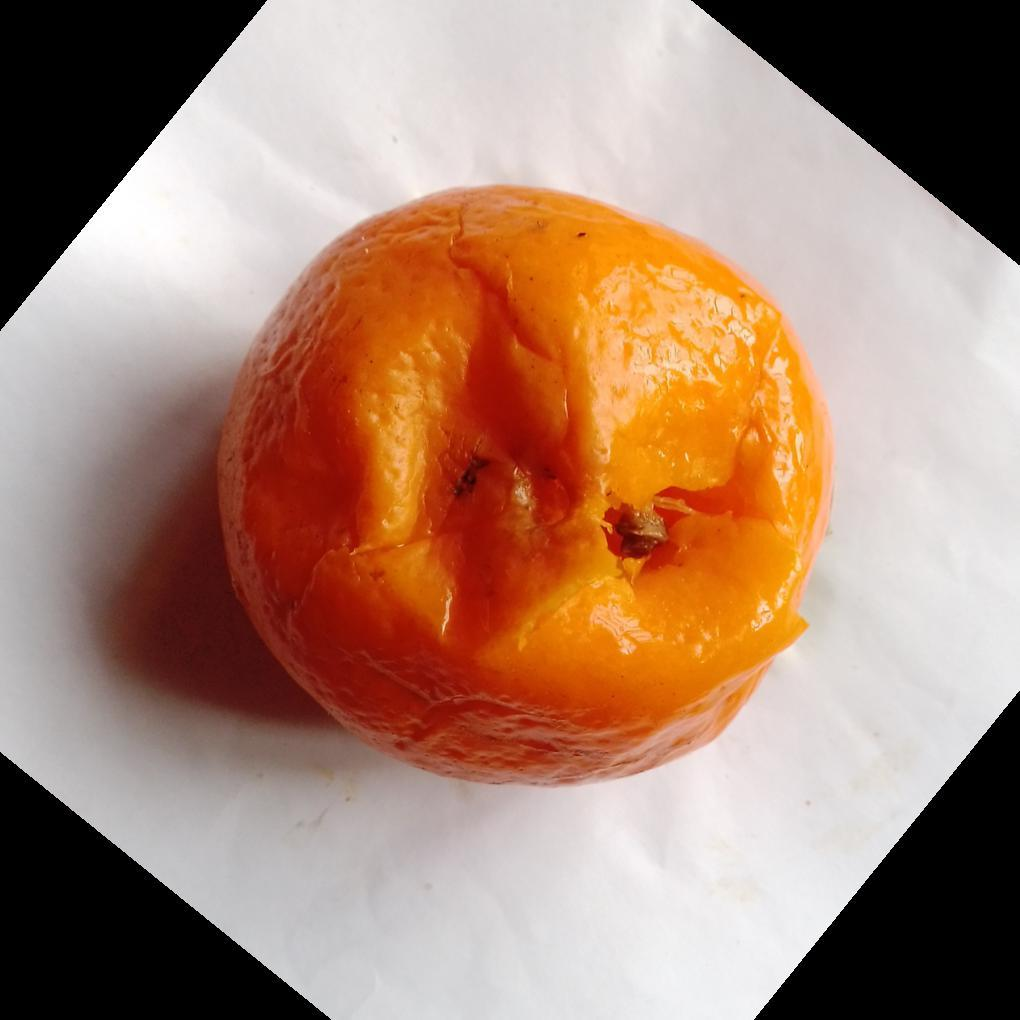FreshOrange: (212, 186, 834, 791)
